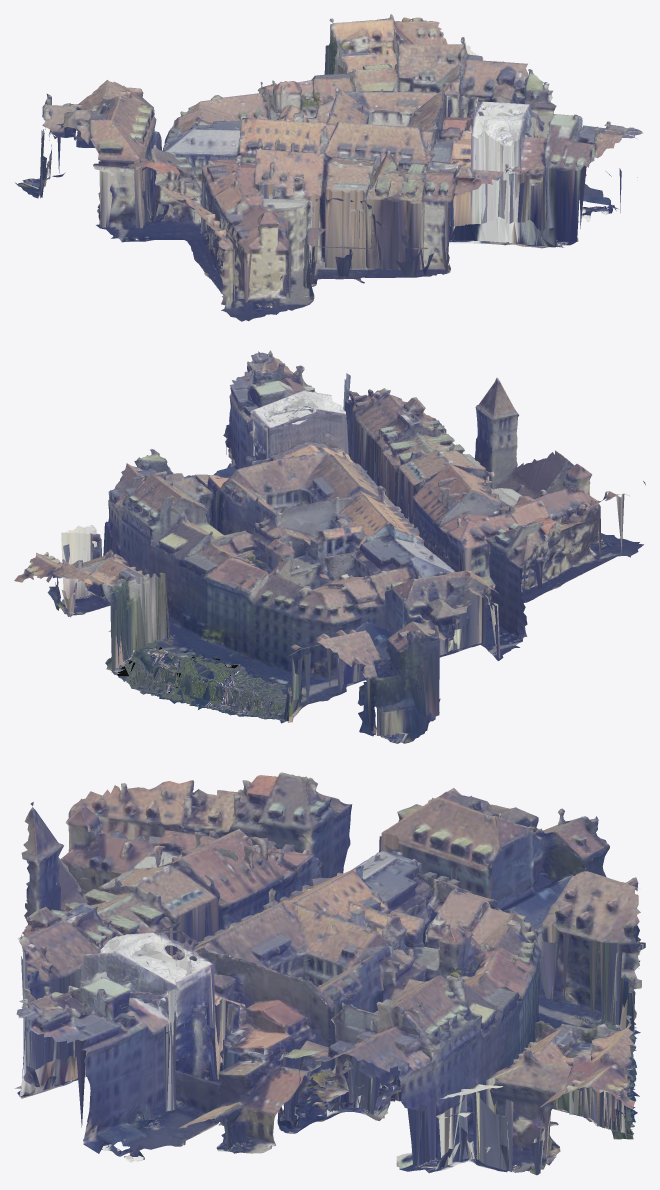
3 views of the same model, one above another, from view 1: azimuth 30°, elevation 25°; view 2: azimuth 150°, elevation 25°; view 3: azimuth 270°, elevation 25° (orthographic). The views are drawn at different scales.
Size of the model in its own units: 104 by 44.53 by 105.
1 material, 1 textured.
